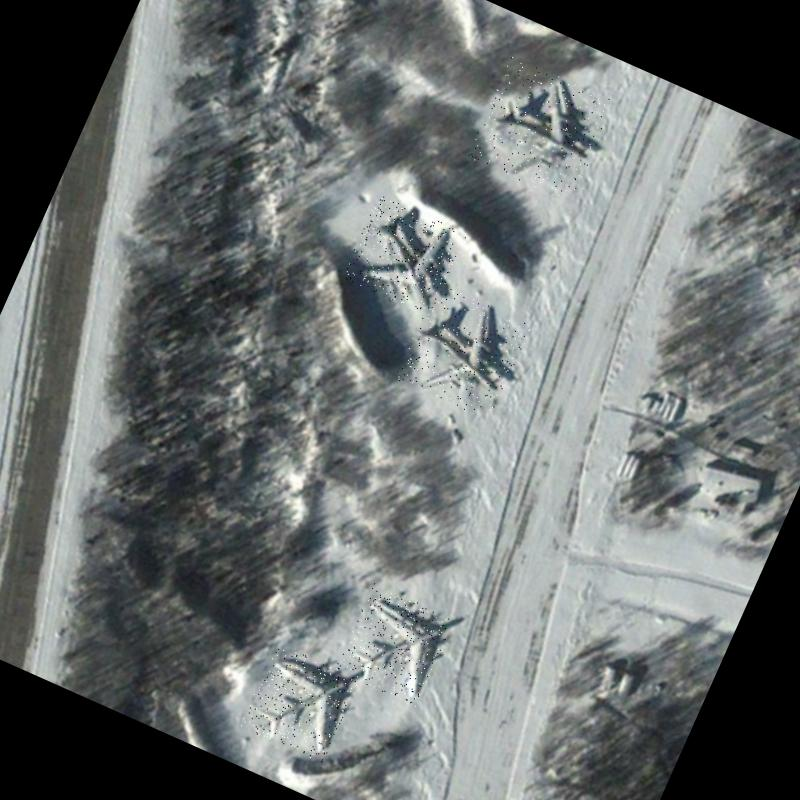A17: (466, 55, 616, 204), (394, 283, 532, 421), (342, 194, 468, 318), (334, 583, 454, 707), (239, 643, 360, 764)
